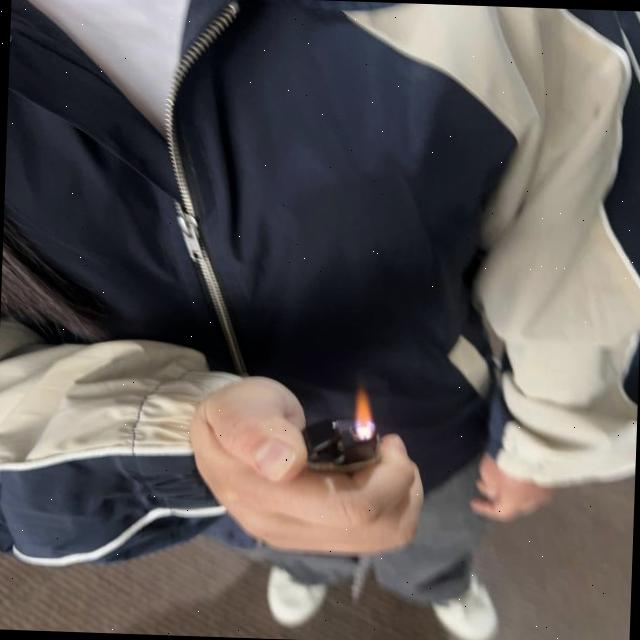fire: (354, 384, 378, 442)
